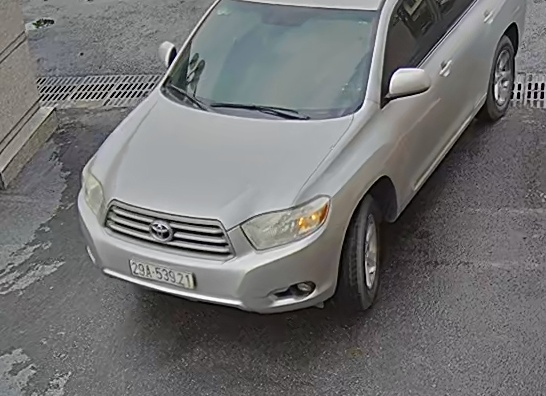vehicle plate: (126, 254, 200, 294)
